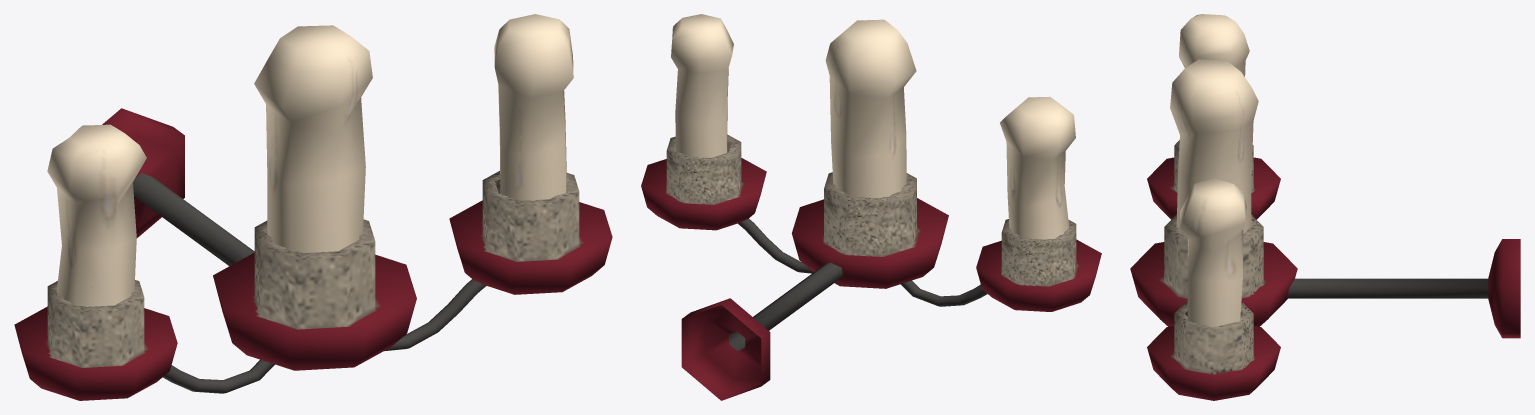
Rendered from Wall Candles.fbx.
3 views of the same model, side by side, from view 1: azimuth 30°, elevation 25°; view 2: azimuth 150°, elevation 25°; view 3: azimuth 270°, elevation 25° (orthographic). The views are drawn at different scales.
Visible parts, largest first — view 1: Wall Candles; view 2: Wall Candles; view 3: Wall Candles.
Boxes of the visible parts, <box> form: Wall Candles: <box>14,14,612,400</box>; Wall Candles: <box>641,14,1101,400</box>; Wall Candles: <box>1130,14,1520,400</box>.
Bounding box in the file's own units: 0.8822 × 0.4928 × 0.6473.
